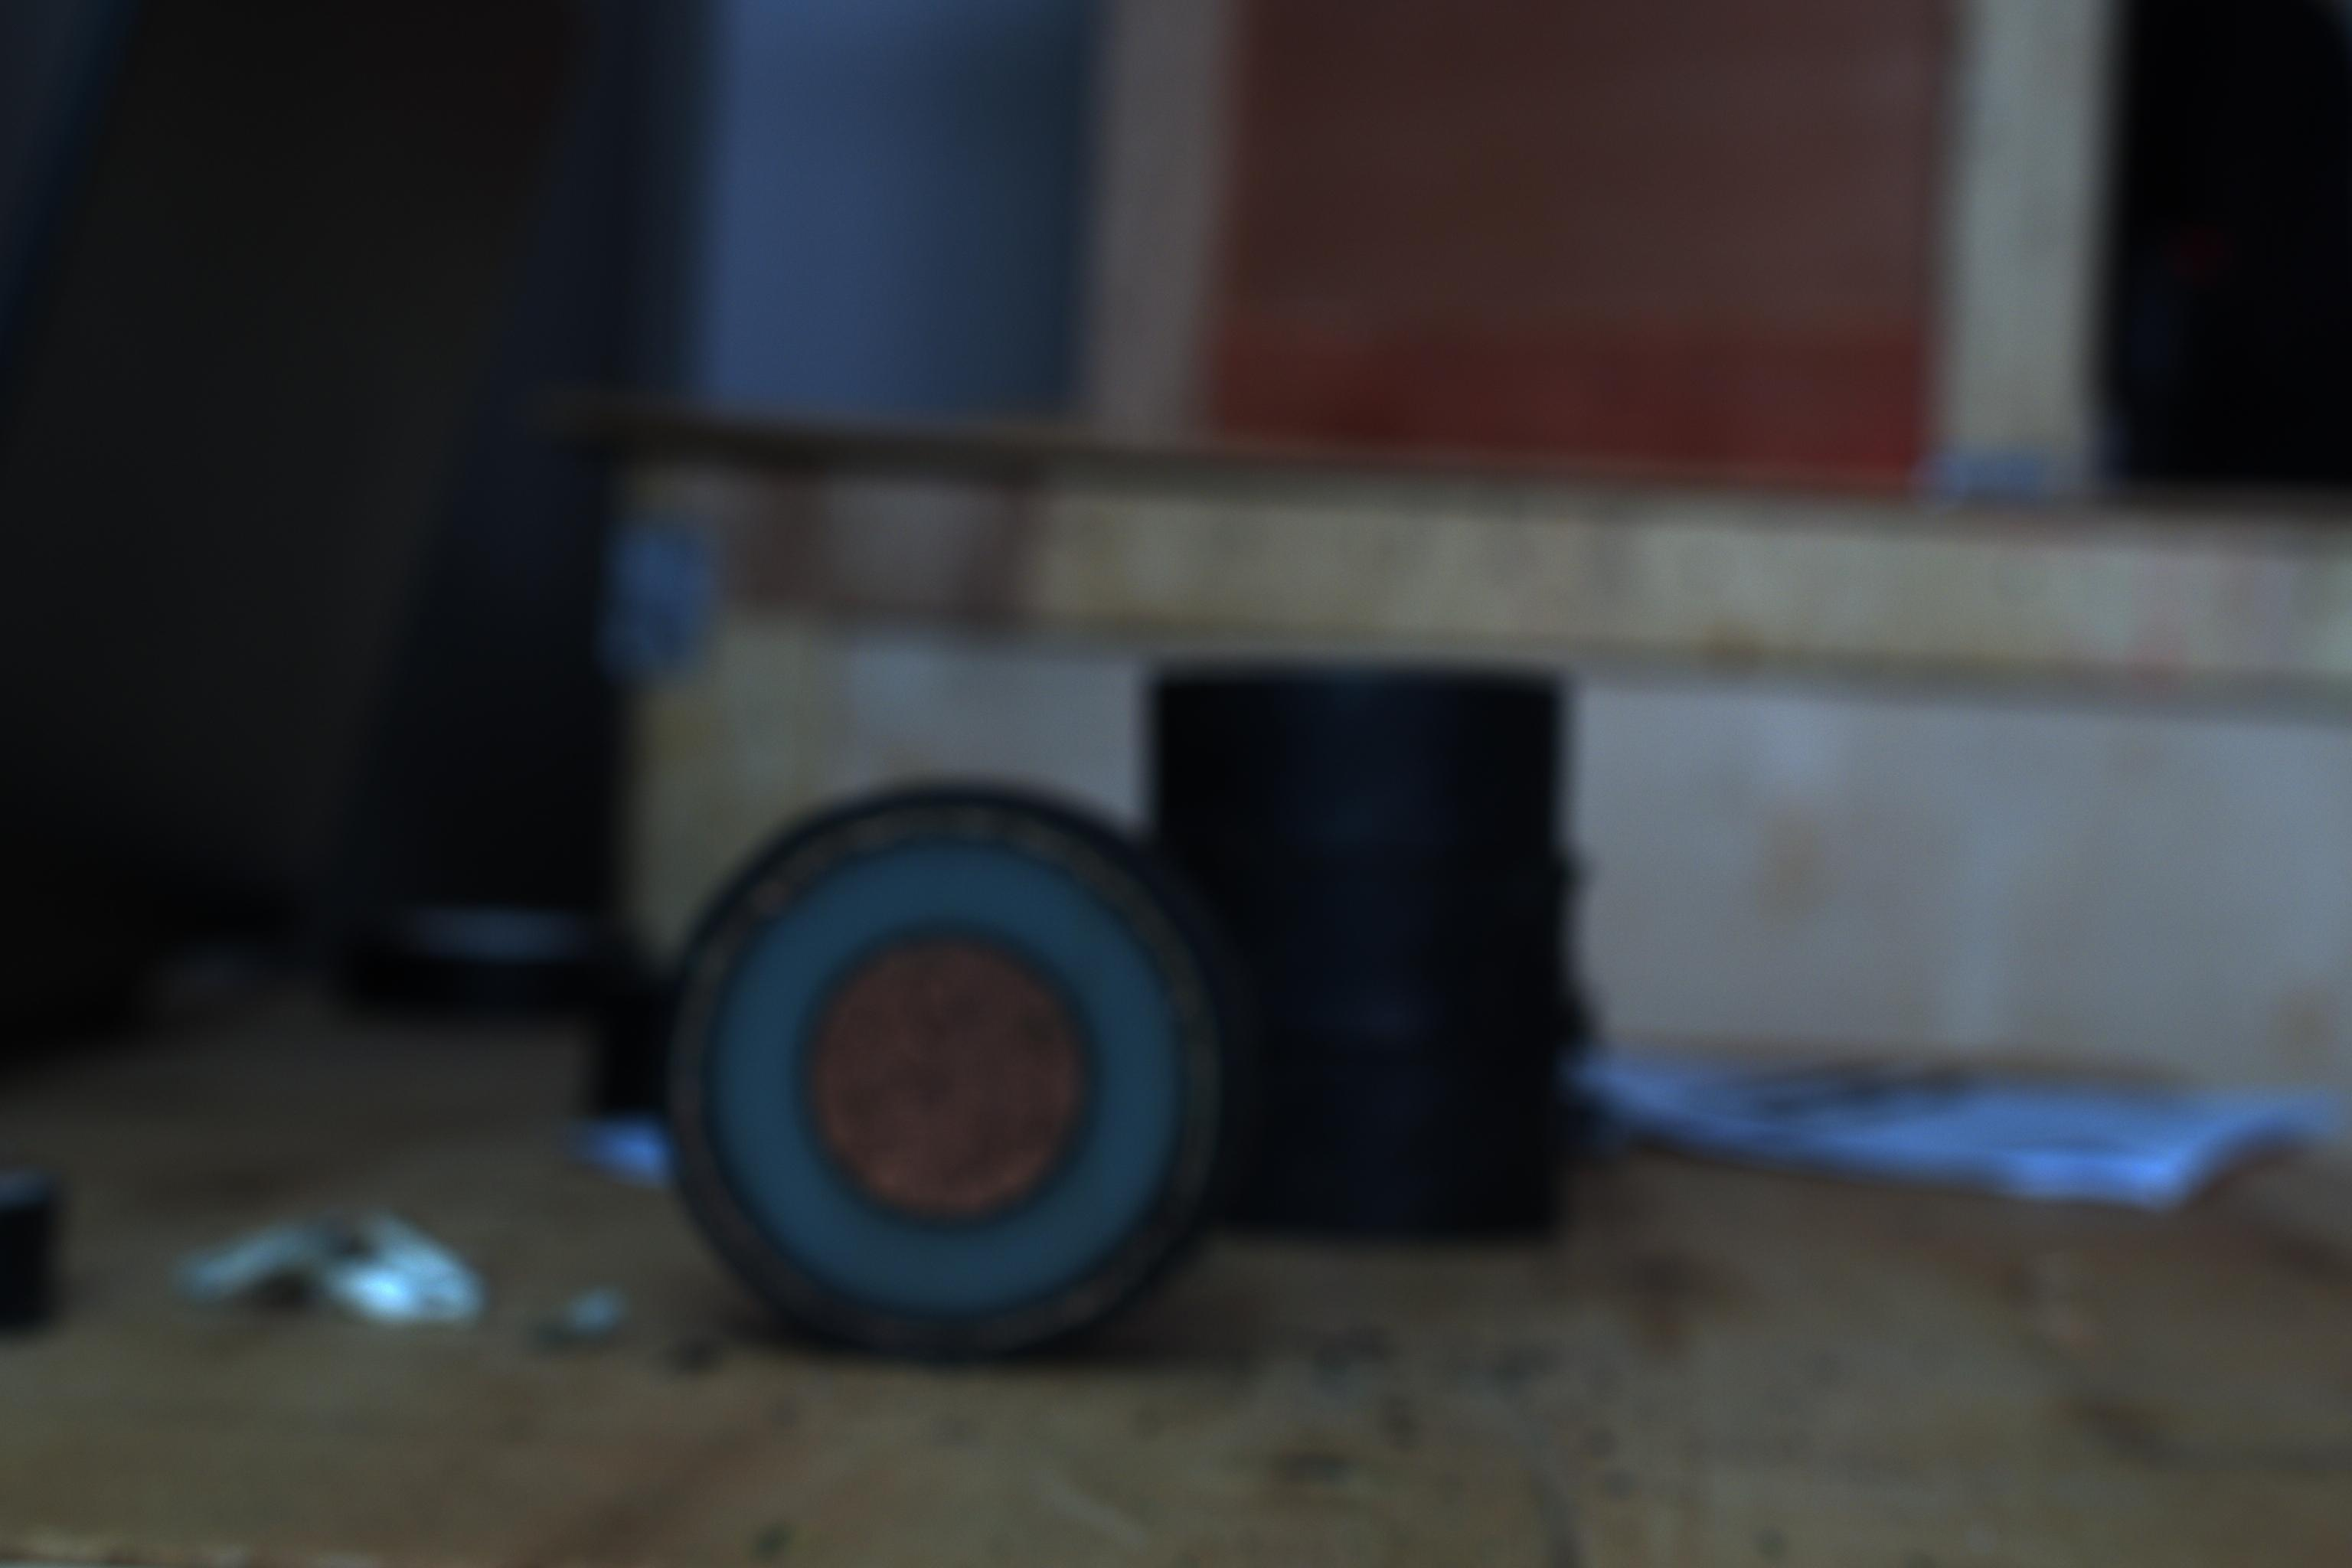YJV_26_35kV_1x630: (679, 794, 1214, 1332)
